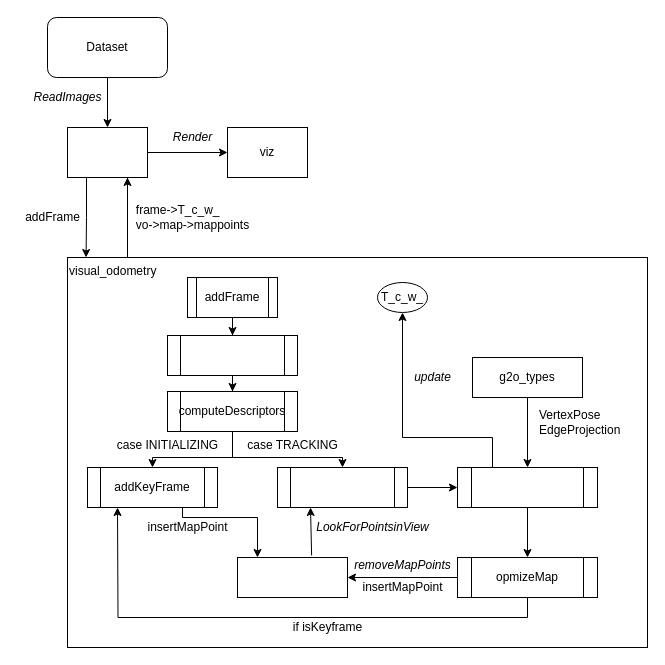
Image size: 665x665. Some labels were removed from this diagram. The shapes that lost their labels are listed below. From the top down, each one's centre as x and y in pixels, then its label:
point 107,152: run_vo
point 232,355: extractKeyPoints
point 342,487: featureMatching
point 527,487: poseEstimationPnP
point 292,577: Map
